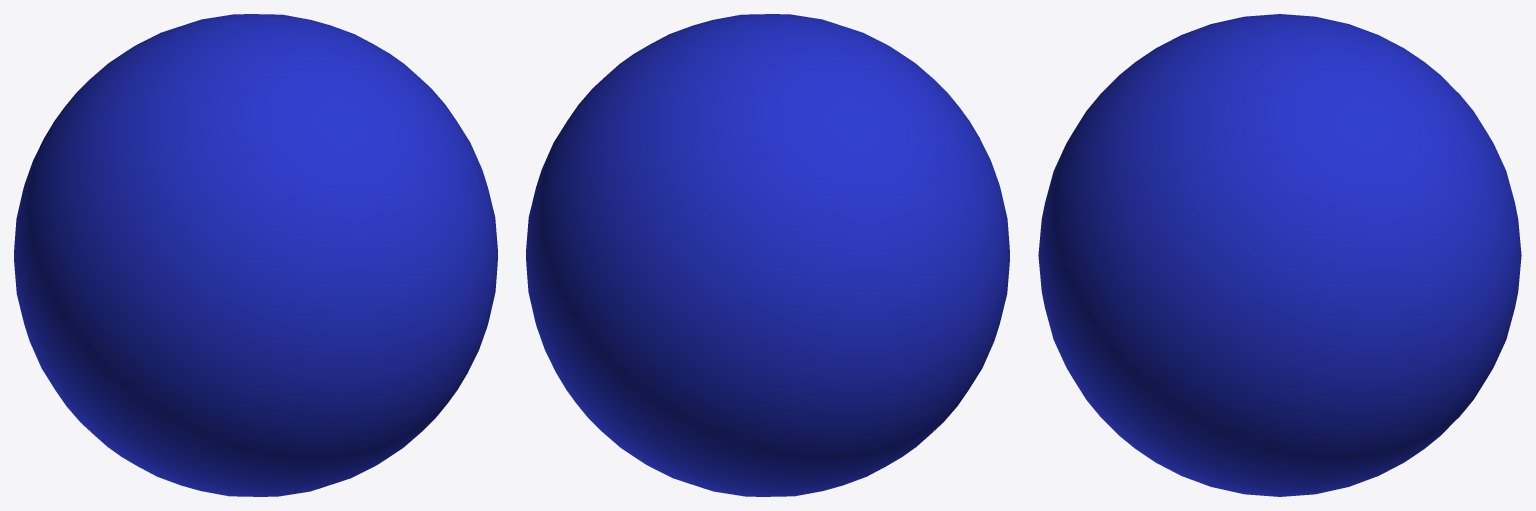
File: XXR_B_BLOODSTONE_002.obj
3 views of the same model, side by side, from view 1: azimuth 30°, elevation 25°; view 2: azimuth 150°, elevation 25°; view 3: azimuth 270°, elevation 25° (orthographic).
Parts seen in each view (by area): view 1: XXR_BLOODSTONE_001_XXR_BLOODSTONE_S-2; view 2: XXR_BLOODSTONE_001_XXR_BLOODSTONE_S-2; view 3: XXR_BLOODSTONE_001_XXR_BLOODSTONE_S-2.
Part boxes in pixels (bbox=[...]): XXR_BLOODSTONE_001_XXR_BLOODSTONE_S-2: bbox=[14, 14, 497, 496]; XXR_BLOODSTONE_001_XXR_BLOODSTONE_S-2: bbox=[526, 14, 1009, 496]; XXR_BLOODSTONE_001_XXR_BLOODSTONE_S-2: bbox=[1038, 14, 1521, 496].
Bounding box in the file's own units: 2.15 × 2.15 × 2.15.
